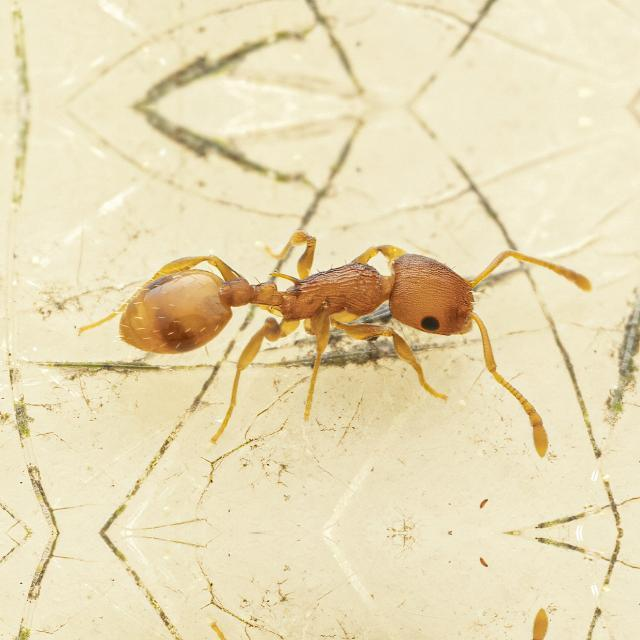Temnothorax: (119, 176, 536, 388)
